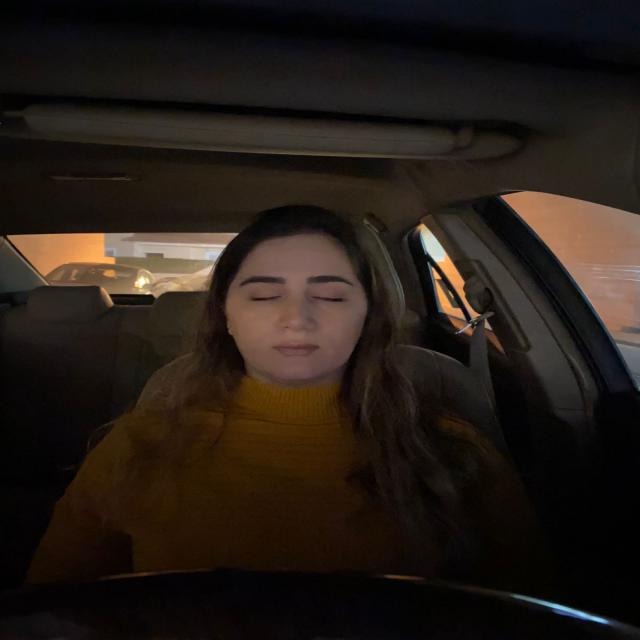drowsy: (210, 223, 374, 383)
